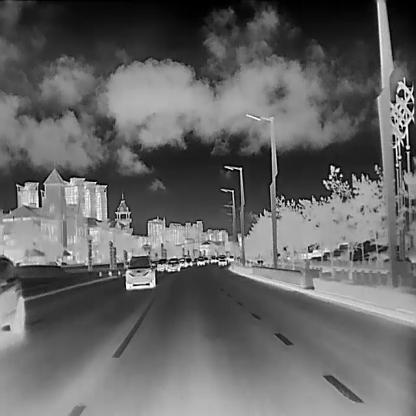car: (0, 253, 23, 331), (125, 254, 155, 288), (165, 257, 180, 271), (155, 258, 168, 271), (216, 254, 227, 264), (209, 254, 218, 262), (185, 256, 192, 266), (226, 254, 234, 262), (196, 257, 204, 265), (180, 257, 186, 267), (202, 256, 208, 263)
